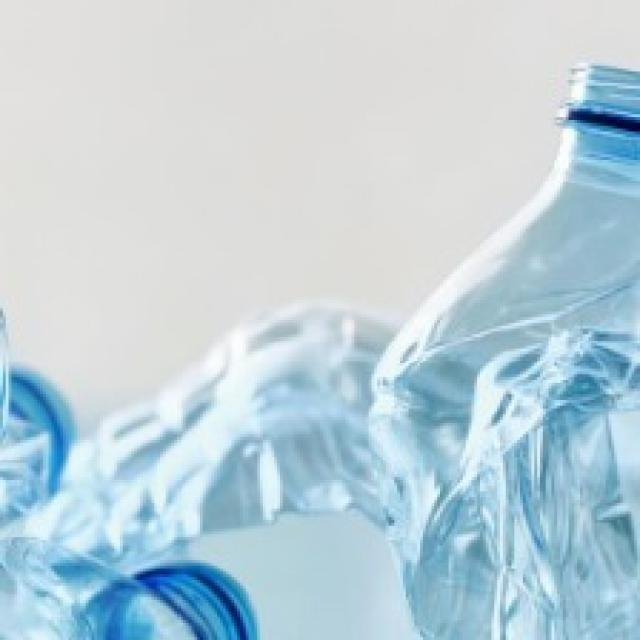plastic_bottle: (387, 63, 640, 634)
